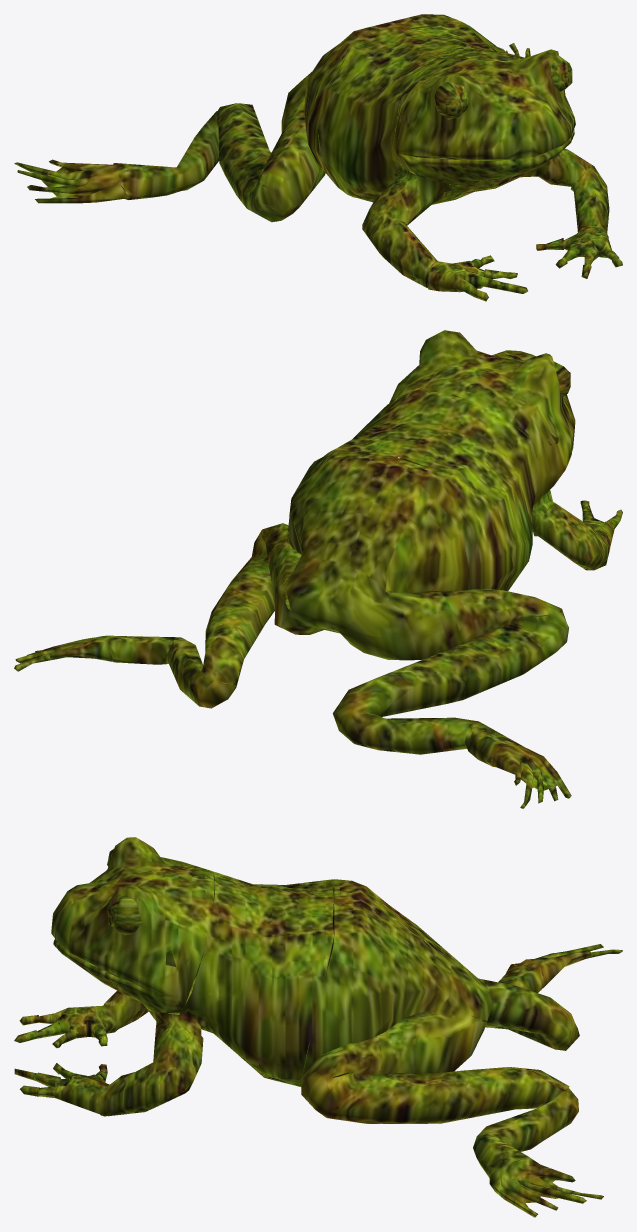
Rendered from frog1.obj.
3 renders of one model, top to bottom at view 1: azimuth 30°, elevation 25°; view 2: azimuth 150°, elevation 25°; view 3: azimuth 270°, elevation 25°, orthographic. The views are drawn at different scales.
Parts seen in each view (by area): view 1: chest, rThigh, rShin, hip, rToes, rForeArm, rFoot, rShldr, rAnkle, lForeArm, rHand, lShldr (+1 smaller); view 2: hip, chest, rShin, rThigh, lShin, rAnkle, lThigh, lAnkle, rToes, rShldr, lFoot, lToes (+1 smaller); view 3: chest, hip, lShin, lThigh, rShin, lToes, lForeArm, lAnkle, lShldr, rHand, lHand, rToes (+4 smaller).
Boxes of the visible parts, x1=… form: chest: x1=317, y1=21, x2=575, y2=204; rThigh: x1=259, y1=79, x2=325, y2=213; rShin: x1=216, y1=103, x2=292, y2=222; hip: x1=303, y1=14, x2=495, y2=197; rToes: x1=14, y1=159, x2=129, y2=203; rForeArm: x1=362, y1=216, x2=437, y2=287; rFoot: x1=112, y1=163, x2=183, y2=199; rShldr: x1=362, y1=181, x2=433, y2=228; rAnkle: x1=176, y1=111, x2=219, y2=190; lForeArm: x1=571, y1=166, x2=609, y2=237; rHand: x1=425, y1=261, x2=484, y2=292; lShldr: x1=539, y1=148, x2=593, y2=187; hip: x1=282, y1=448, x2=513, y2=633; chest: x1=310, y1=330, x2=575, y2=591; rShin: x1=333, y1=609, x2=568, y2=716; rThigh: x1=336, y1=589, x2=561, y2=660; lShin: x1=202, y1=530, x2=287, y2=686; rAnkle: x1=333, y1=713, x2=477, y2=754; lThigh: x1=262, y1=523, x2=323, y2=634; lAnkle: x1=167, y1=637, x2=236, y2=708; rToes: x1=491, y1=747, x2=571, y2=808; rShldr: x1=533, y1=501, x2=593, y2=564; lFoot: x1=106, y1=635, x2=179, y2=664; lToes: x1=14, y1=635, x2=113, y2=671; chest: x1=51, y1=837, x2=333, y2=1086; hip: x1=302, y1=879, x2=493, y2=1077; lShin: x1=301, y1=1067, x2=569, y2=1123; lThigh: x1=301, y1=1011, x2=486, y2=1096; rShin: x1=479, y1=978, x2=574, y2=1042; lToes: x1=489, y1=1156, x2=603, y2=1217; lForeArm: x1=96, y1=1061, x2=185, y2=1116; lAnkle: x1=477, y1=1087, x2=578, y2=1151; lShldr: x1=153, y1=1024, x2=203, y2=1093; rHand: x1=54, y1=1005, x2=115, y2=1038; lHand: x1=54, y1=1073, x2=109, y2=1116; rToes: x1=506, y1=944, x2=622, y2=987.
Size of the model in its own units: 0.0948 by 0.0389 by 0.0914.
Materials: 4 (4 with a texture image).
